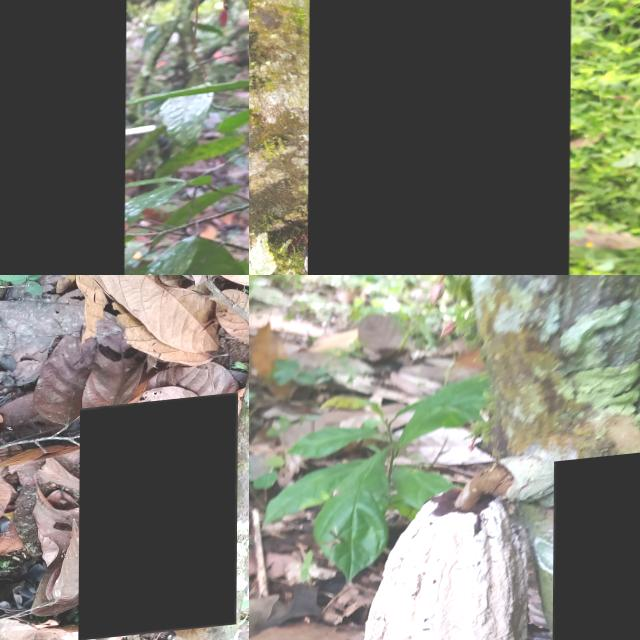Fitoftora: (307, 0, 571, 275)
Monilia: (79, 400, 238, 640), (0, 0, 127, 275), (361, 491, 533, 640), (552, 456, 640, 640)
